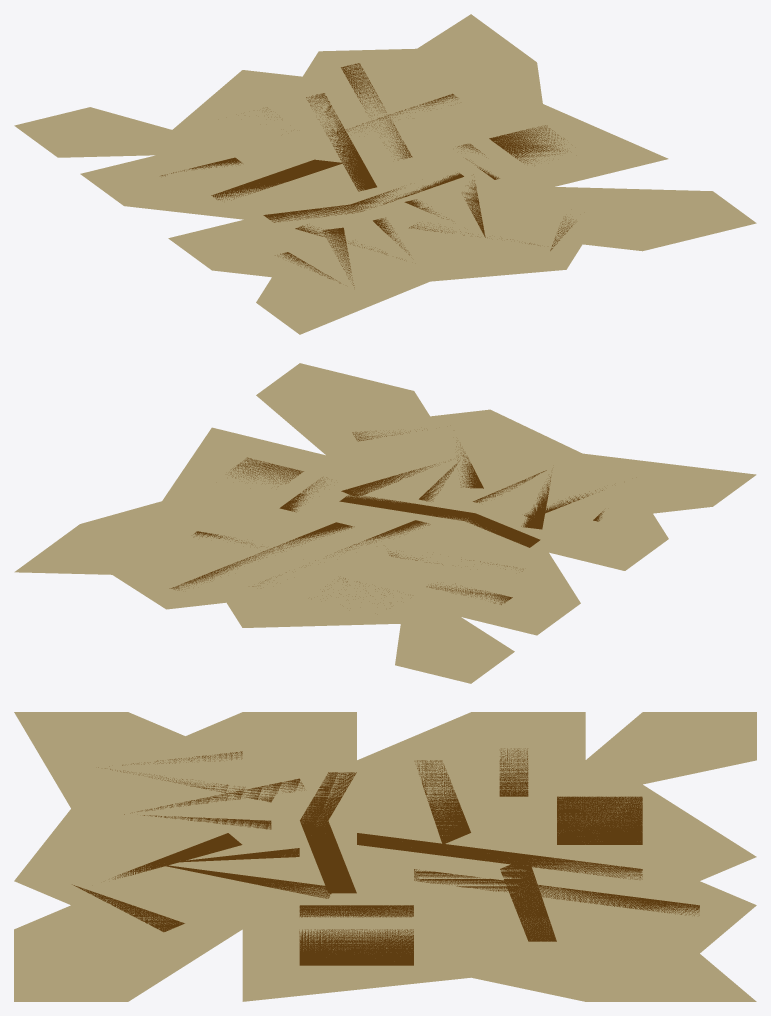
File: inv_skavid_map.obj
3 views of the same model, one above another, from view 1: azimuth 30°, elevation 25°; view 2: azimuth 150°, elevation 25°; view 3: azimuth 270°, elevation 25° (orthographic). The views are drawn at different scales.
Size of the model in its own units: 0.75 by 0 by 0.8125.
